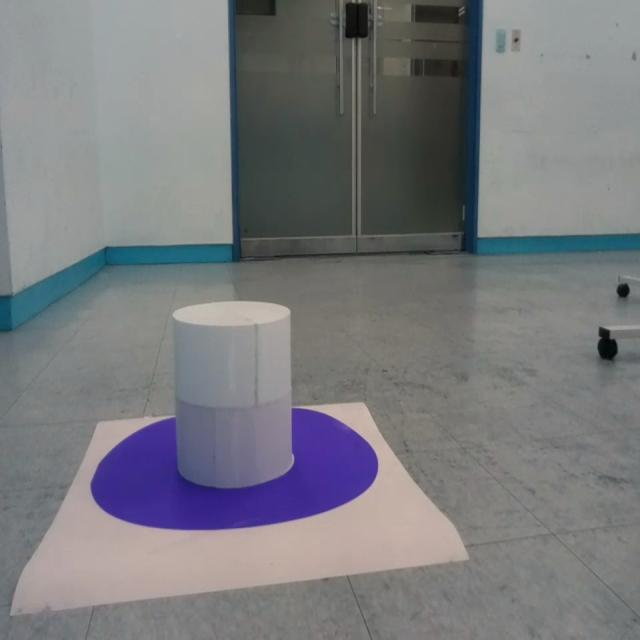cylinder: (172, 300, 293, 487)
